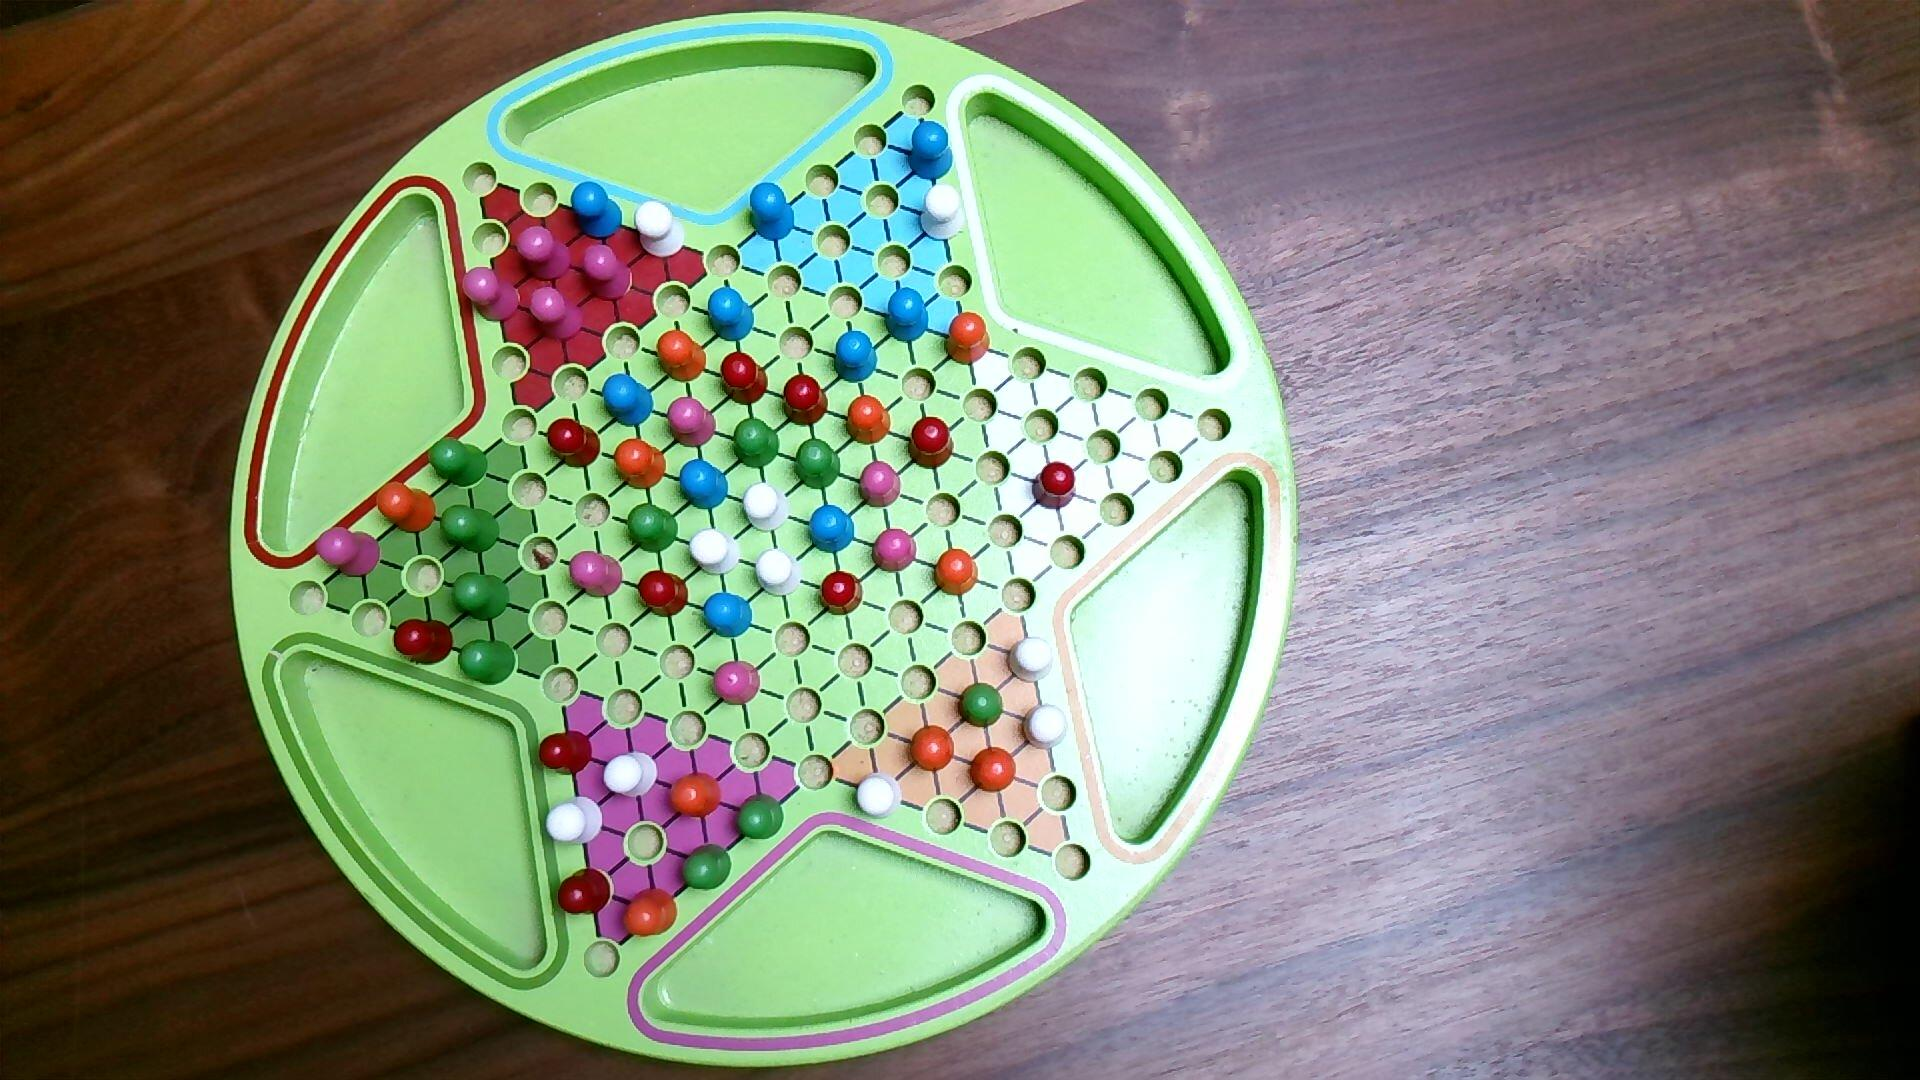B: (568, 181, 625, 243), (905, 119, 955, 183), (746, 179, 796, 244), (601, 373, 655, 430), (705, 285, 756, 344), (676, 458, 731, 512), (884, 285, 931, 345), (807, 502, 857, 556), (702, 591, 756, 641), (832, 330, 880, 386)
G: (426, 436, 491, 491), (439, 502, 502, 556), (448, 571, 512, 624), (626, 501, 680, 556), (458, 638, 518, 687), (679, 843, 735, 893), (793, 436, 843, 492), (735, 791, 786, 843), (732, 415, 781, 469), (956, 680, 1006, 731)
O: (375, 480, 438, 535), (613, 436, 669, 492), (655, 328, 708, 385), (621, 887, 680, 938), (667, 771, 723, 822), (943, 311, 993, 367), (844, 394, 893, 447), (931, 547, 981, 597), (968, 746, 1019, 795), (907, 725, 956, 774)
R: (392, 618, 456, 669), (545, 415, 603, 469), (719, 349, 770, 409), (556, 866, 615, 918), (906, 414, 956, 472), (637, 568, 691, 621), (781, 372, 829, 429), (538, 729, 595, 777), (1031, 460, 1079, 512), (818, 568, 865, 618)
R2: (315, 525, 382, 580), (462, 265, 522, 324), (514, 225, 575, 284), (527, 286, 587, 344), (579, 243, 634, 303), (568, 550, 625, 600), (666, 396, 717, 450), (711, 659, 762, 708), (857, 459, 905, 512), (872, 527, 919, 575)
W: (633, 199, 688, 260), (545, 795, 605, 848), (918, 182, 968, 244), (740, 480, 793, 535), (687, 526, 742, 578), (603, 752, 659, 800), (1021, 702, 1071, 753), (855, 771, 905, 822), (1006, 636, 1056, 686), (756, 549, 804, 600)
